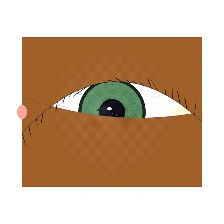pinguecula_lesion: (161, 94, 208, 132)
